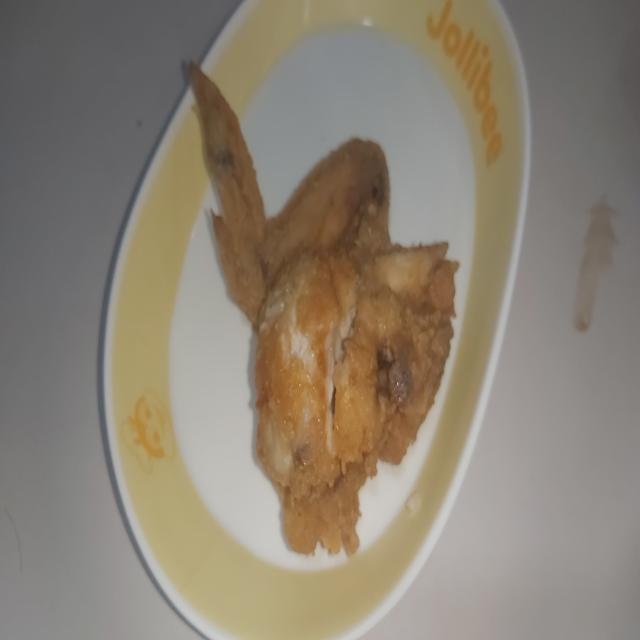Chicken -Fried Chicken-: (181, 51, 460, 565)
